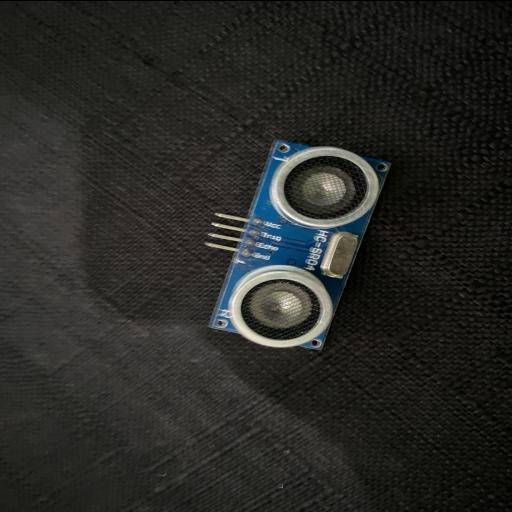Ultrasonic Sensor: (203, 138, 393, 350)
